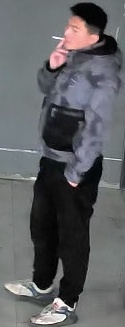smoking: (44, 0, 118, 66)
